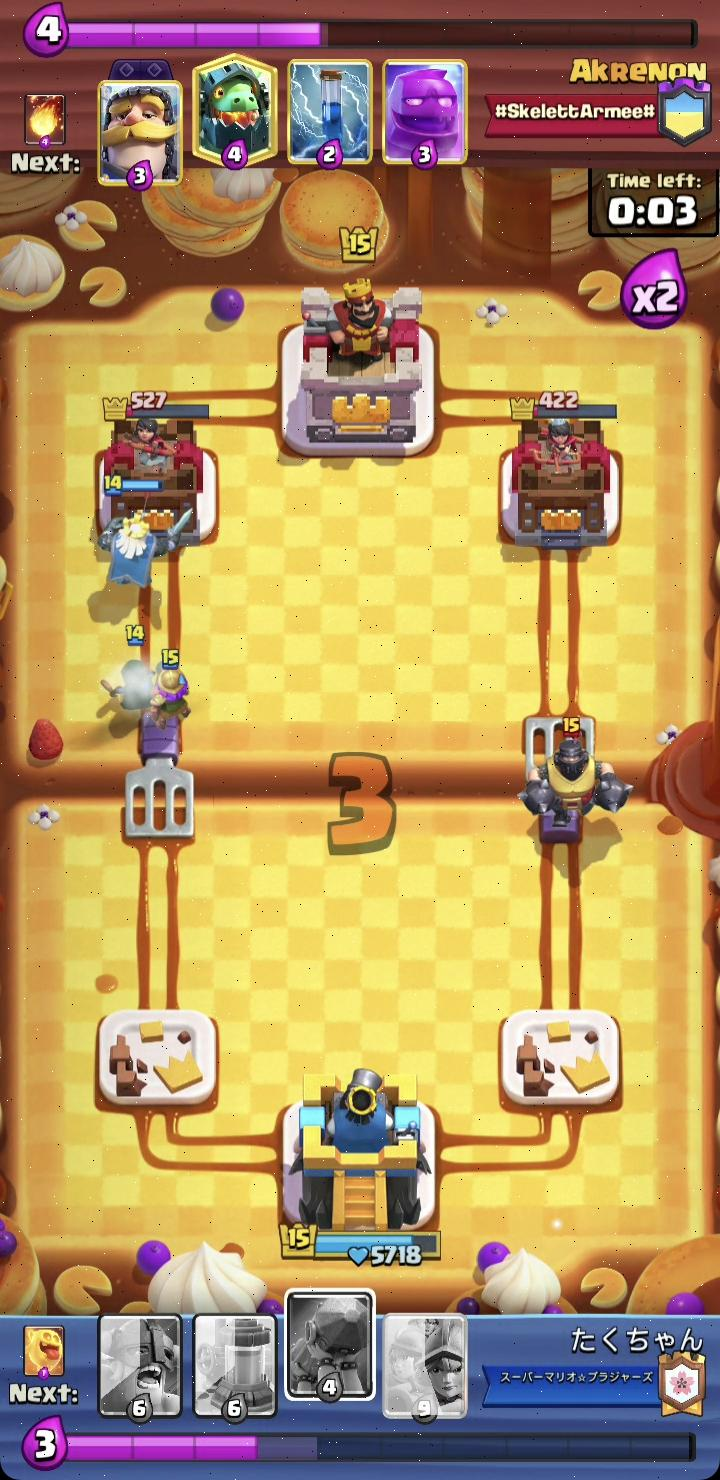EKingTower: (282, 280, 433, 456)
EMegaKnight: (519, 717, 632, 833)
EnemyPrincessTower: (501, 393, 619, 551), (98, 391, 216, 546)
OBandit: (102, 657, 156, 713)
OMusk: (149, 649, 190, 731)
ORoyalGhost: (99, 510, 190, 588)
OwnKingTower: (283, 1068, 435, 1232)
TowerDown: (501, 1010, 619, 1107), (99, 1010, 216, 1107)
